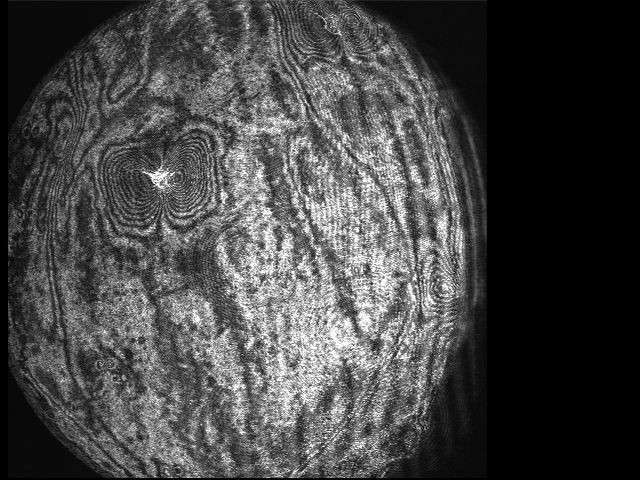plume: (100, 137, 222, 240)
